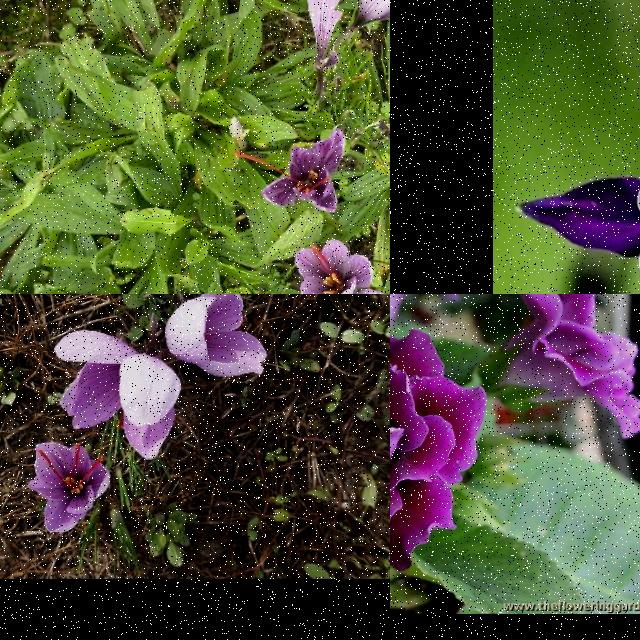flower: (54, 330, 182, 460), (232, 128, 346, 214), (165, 294, 267, 377), (27, 442, 112, 534), (295, 238, 374, 294), (353, 0, 390, 29)
